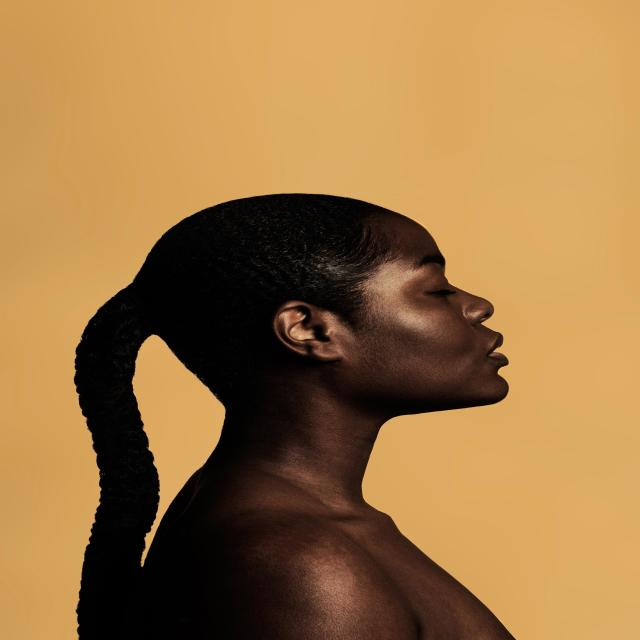adult: (77, 192, 517, 640)
